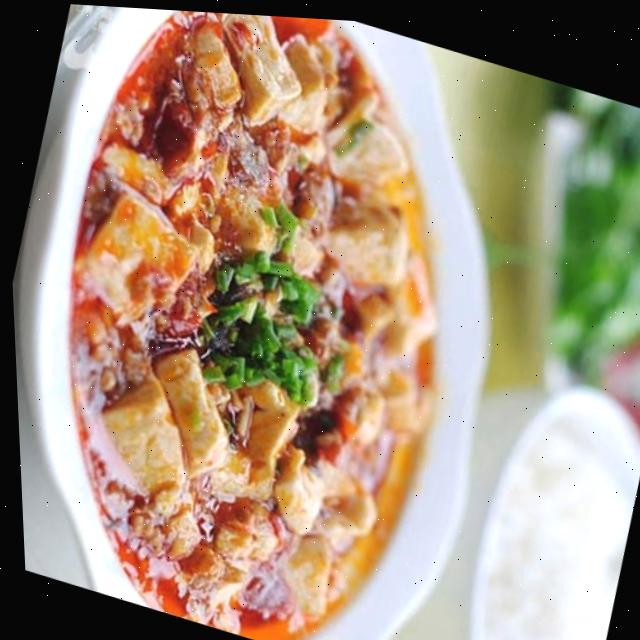豆腐料理: (0, 0, 558, 640)
